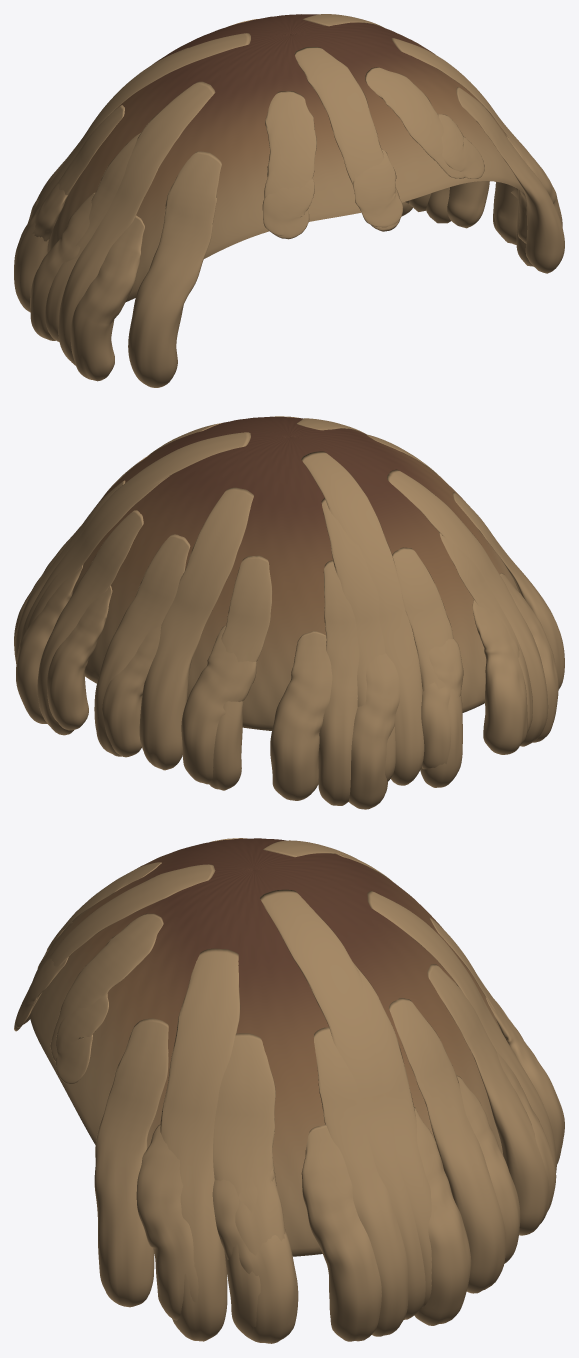
The model's file is Masculine-locs-cowboy260-hair-ombre.glb.
The picture shows the model from 3 angles, top to bottom: view 1: azimuth 30°, elevation 25°; view 2: azimuth 150°, elevation 25°; view 3: azimuth 270°, elevation 25°; orthographic projection. The views are drawn at different scales.
Parts seen in each view (by area): view 1: 226 hair / Hair260 / mature compact locs; view 2: 226 hair / Hair260 / mature compact locs; view 3: 226 hair / Hair260 / mature compact locs.
Part boxes in pixels (x1,y1,x2,y2): 226 hair / Hair260 / mature compact locs: [14, 14, 564, 387]; 226 hair / Hair260 / mature compact locs: [14, 416, 564, 809]; 226 hair / Hair260 / mature compact locs: [14, 838, 564, 1343].
Bounding box in the file's own units: 1.13 × 0.6053 × 0.8677.
